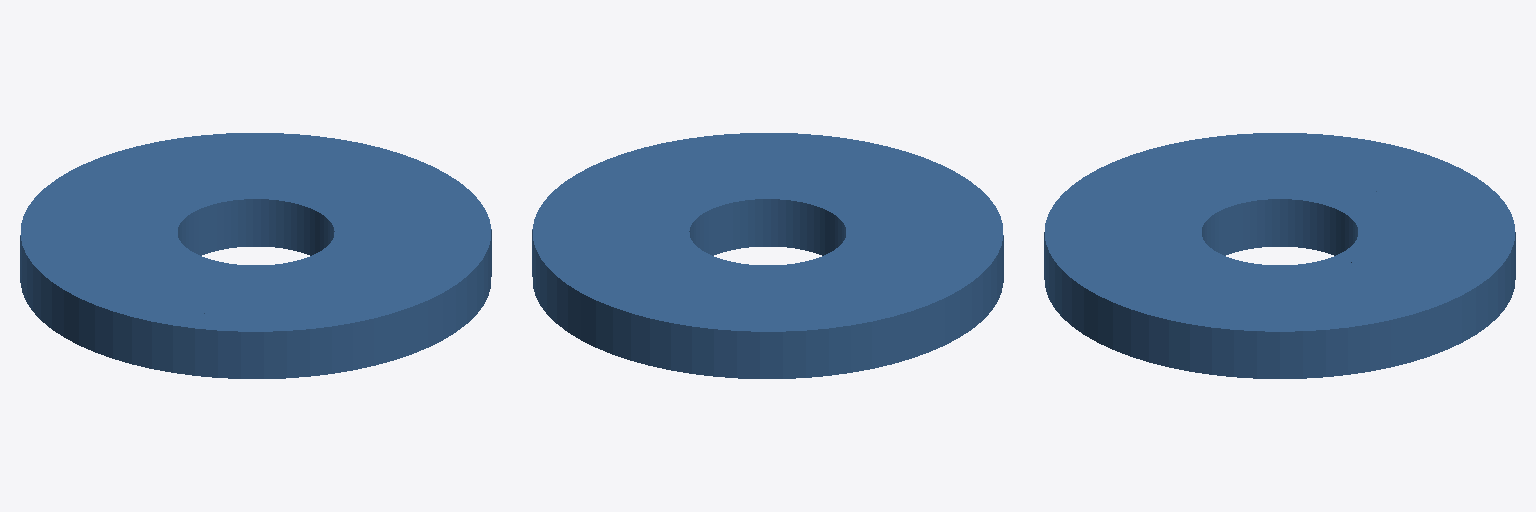
robot.urdf — disk3.urdf:
<?xml version="0.0" ?>
<robot name="disk3.urdf">
  <link name="baseLink">
    <contact>
      <lateral_friction value="1.0"/>
      <rolling_friction value="0.0001"/>
      <inertia_scaling value="3.0"/>
    </contact>
    <inertial>
      <origin rpy="0 0 0" xyz="0 0 0"/>
       <mass value=".1"/>
       <inertia ixx="1" ixy="0" ixz="0" iyy="1" iyz="0" izz="1"/>
    </inertial>
    <visual>
      <origin rpy="0 0 0" xyz="0 0 0"/>
      <geometry>
         <mesh filename="disk3.obj" scale="0.001 0.001 0.001"/>
      </geometry>
      <material name="blue">
        <color rgba="0.30588235 0.4745098 0.65490196 1"/>
      </material>
    </visual>
    <collision>
      <origin rpy="0 0 0" xyz="0 0 0"/>
      <geometry>
	 	    <mesh filename="disk3.obj" scale="0.001 0.001 0.001"/>
      </geometry>
    </collision>
  </link>
</robot>

--- Facts derived from the render (not from the file) ---
3 views of the same robot in one strip: view 1: azimuth 30°, elevation 25°; view 2: azimuth 150°, elevation 25°; view 3: azimuth 270°, elevation 25° (orthographic).
Robot: disk3.urdf — 1 links, 0 joints (none); root link baseLink; default pose: all joints at 0.
Visible links, largest first — view 1: baseLink; view 2: baseLink; view 3: baseLink.
Link boxes in pixels (x1,y1,x2,y2): baseLink: (20, 133, 491, 378); baseLink: (532, 133, 1003, 378); baseLink: (1044, 133, 1515, 378).
Size in the robot's own frame: 0.09 by 0.09 by 0.01 metres.
Meshes: 1 distinct files referenced, 1 mesh visuals loaded (1 OBJ).